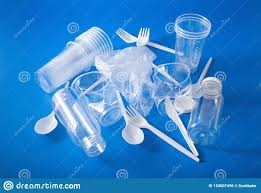plastic: (33, 16, 115, 96), (92, 45, 169, 116), (125, 105, 199, 162), (53, 89, 106, 161), (164, 11, 218, 75), (185, 74, 226, 148), (165, 94, 197, 156)
